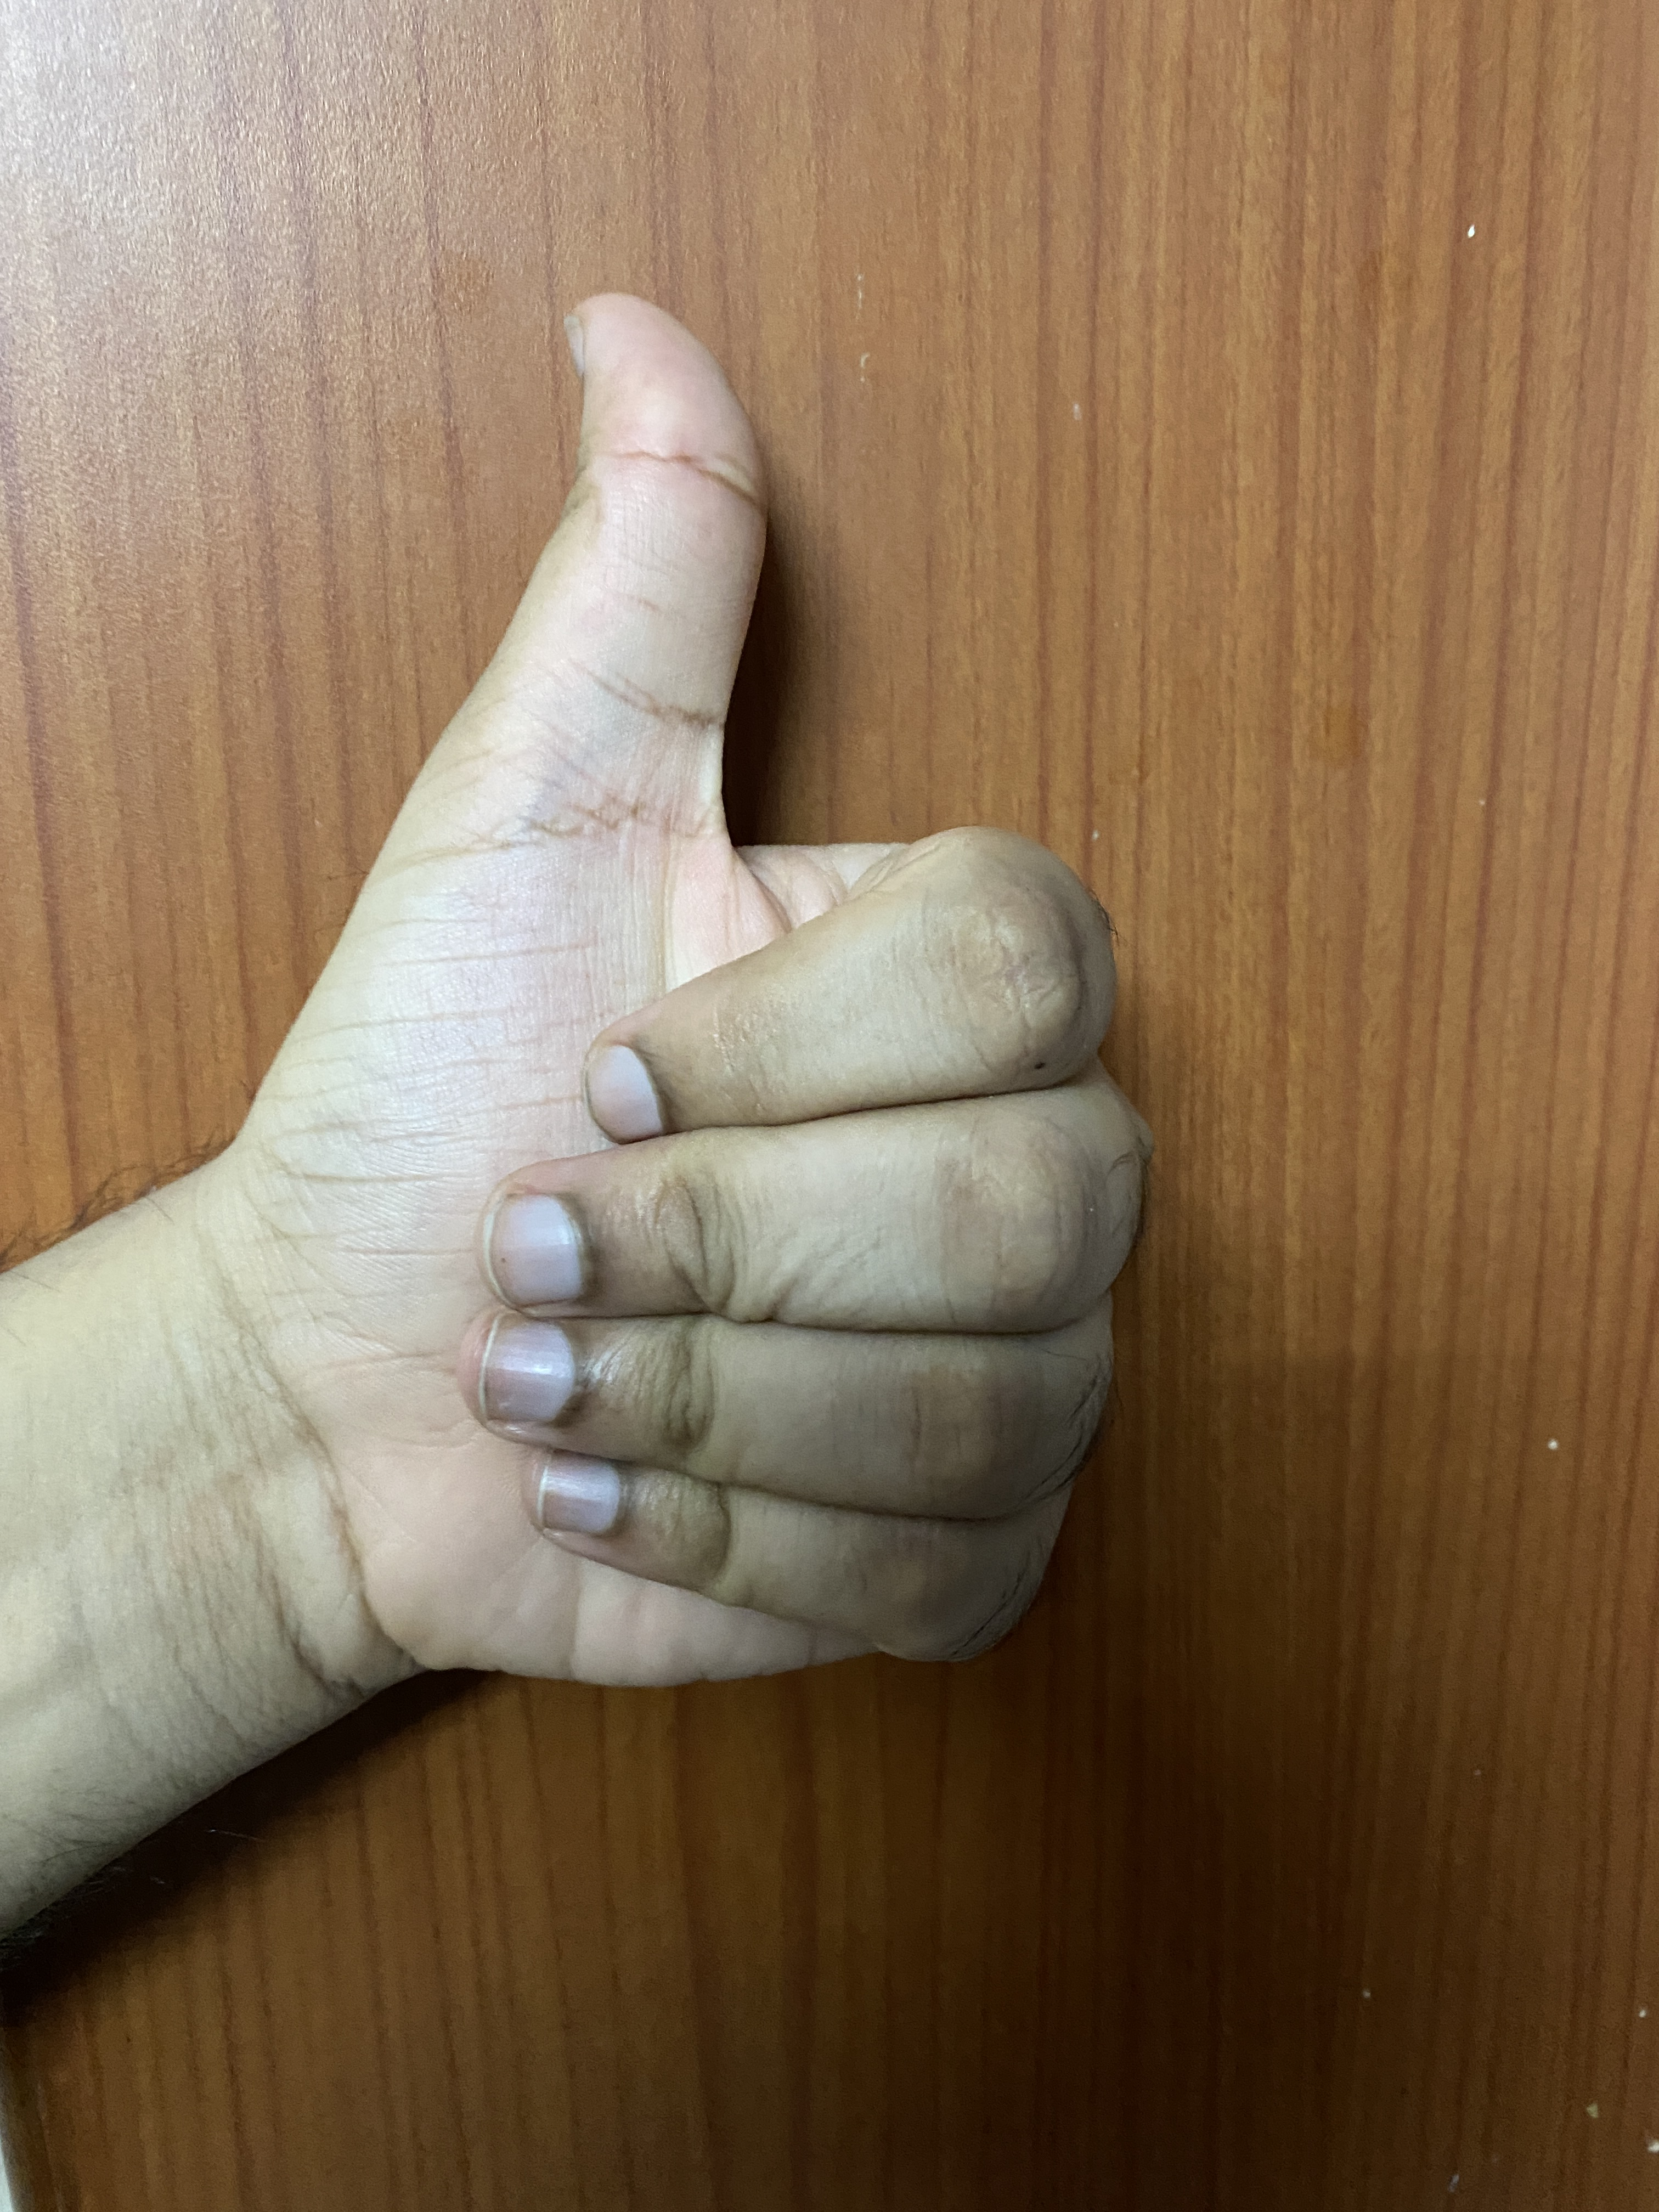up: (21, 230, 1509, 1923)
